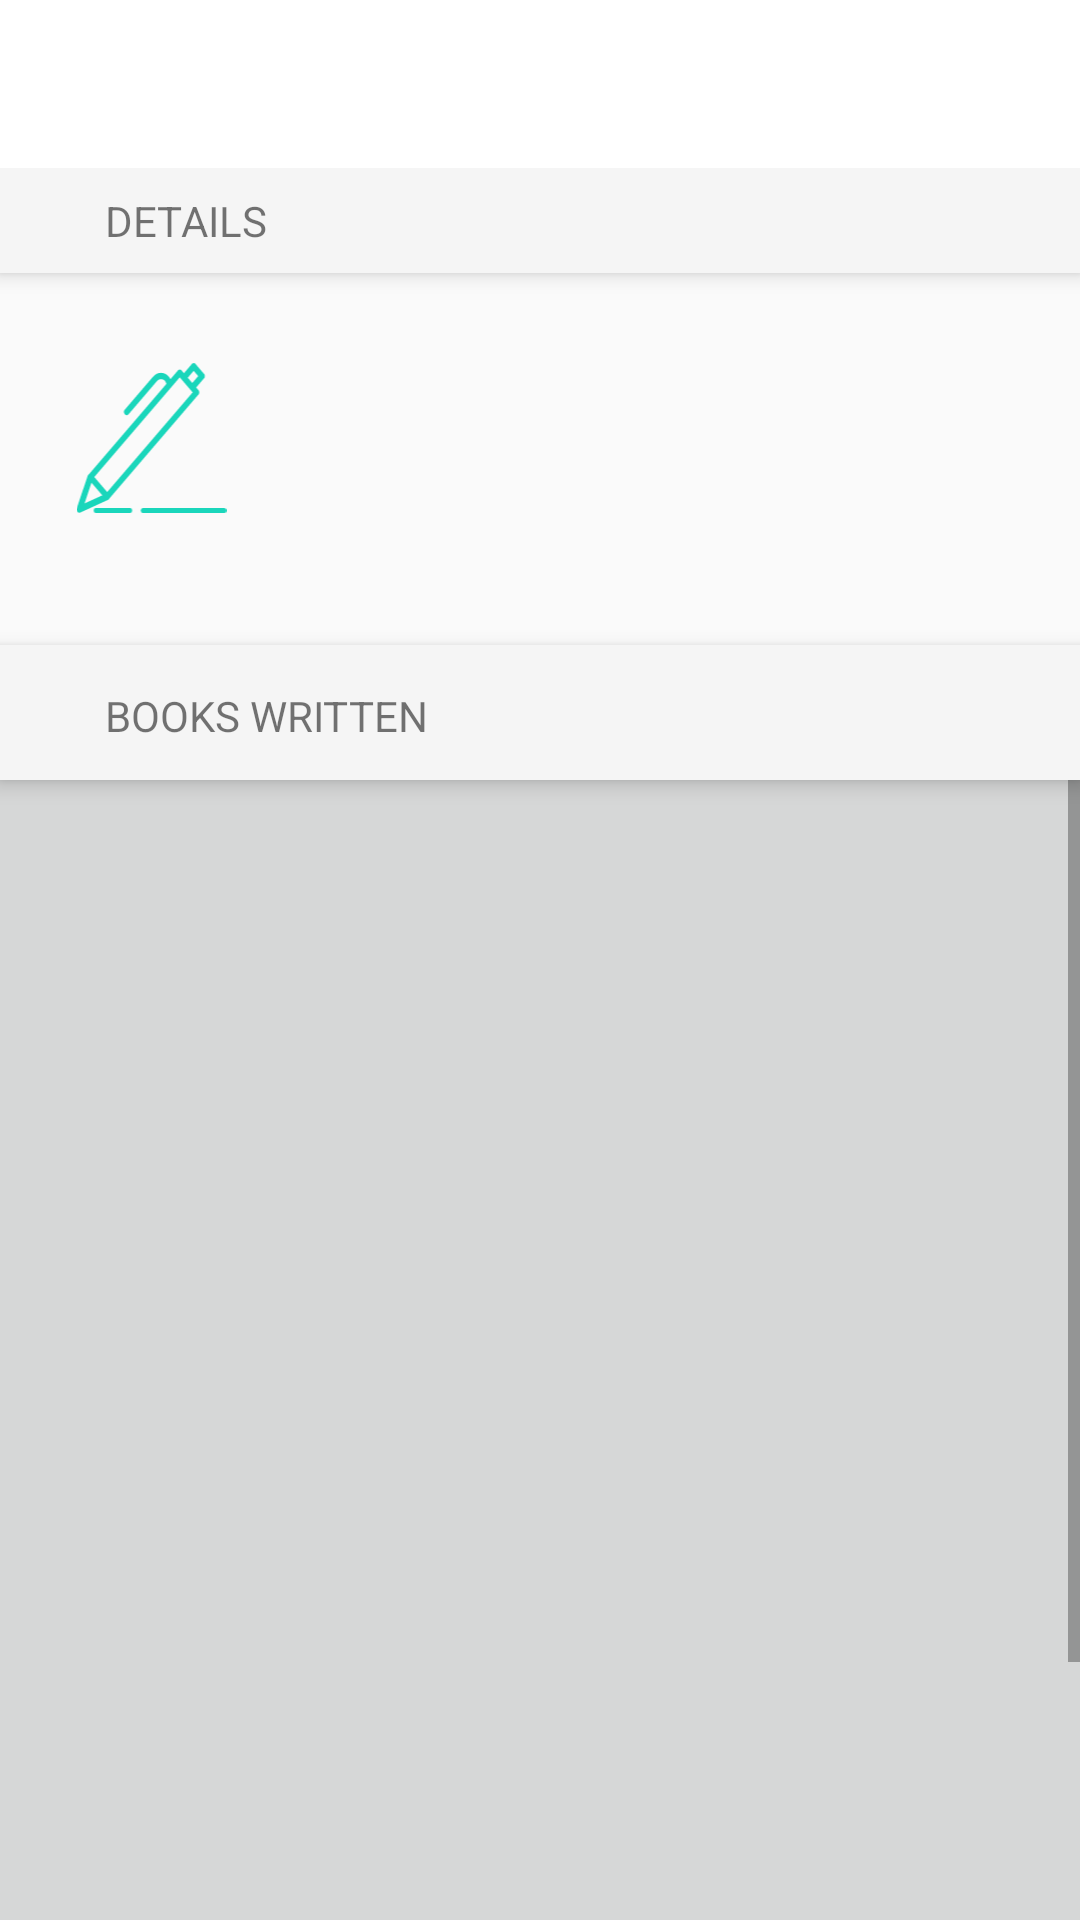

Icon click points for this 1080px x 1920px phone screenshot, format [x,y]:
author: [152,438]
